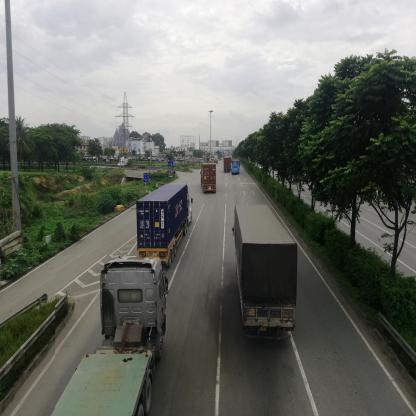bus: (233, 161, 240, 173)
container: (137, 184, 194, 259), (202, 164, 217, 196), (118, 157, 133, 168), (226, 158, 232, 172)
truck: (56, 256, 167, 416), (235, 206, 299, 343)
